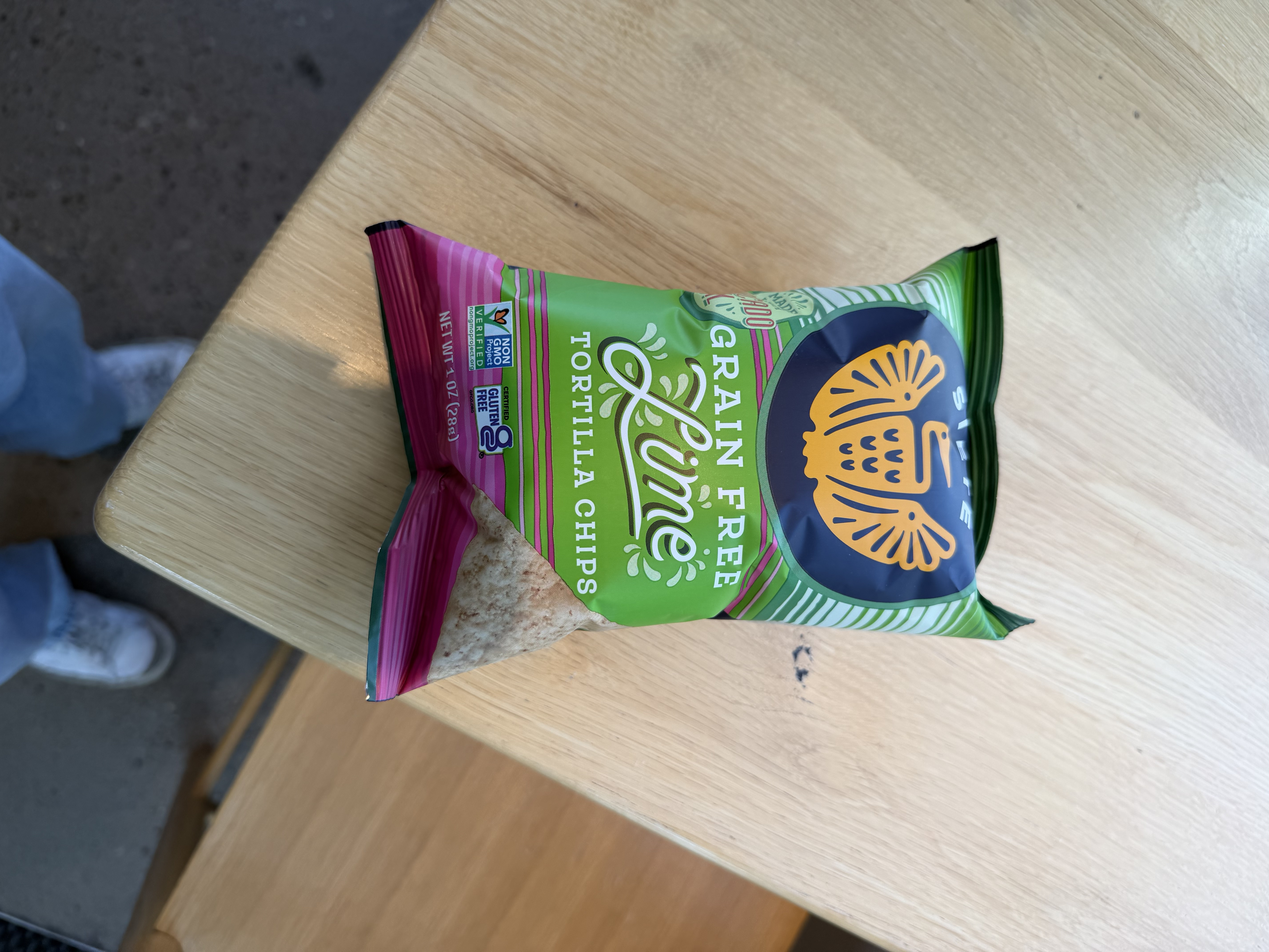lime: (352, 194, 1045, 699)
